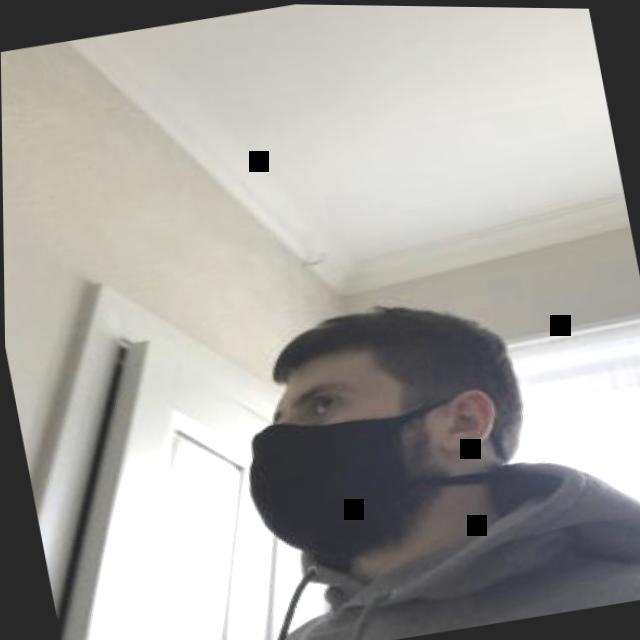Mask: (227, 346, 482, 569)
